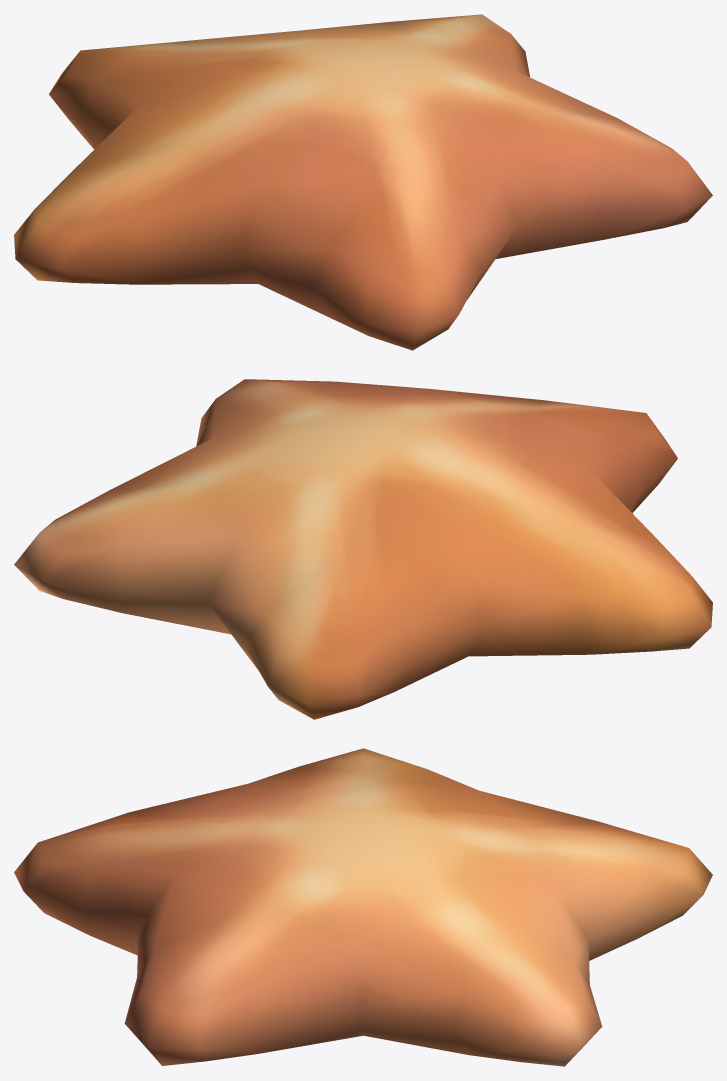
The model's file is haixing02.fbx.
3 views of the same model, one above another, from view 1: azimuth 30°, elevation 25°; view 2: azimuth 150°, elevation 25°; view 3: azimuth 270°, elevation 25° (orthographic). The views are drawn at different scales.
Visible parts, largest first — view 1: haixing02; view 2: haixing02; view 3: haixing02.
Boxes of the visible parts, <box> form: haixing02: <box>14,14,712,350</box>; haixing02: <box>14,379,712,719</box>; haixing02: <box>14,748,712,1066</box>.
Bounding box in the file's own units: 3.86 × 0.8862 × 4.02.
